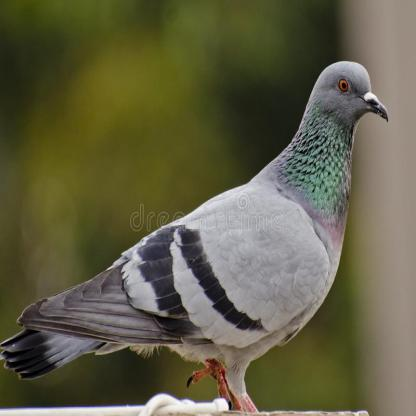Flying Rat: (2, 57, 392, 411)
